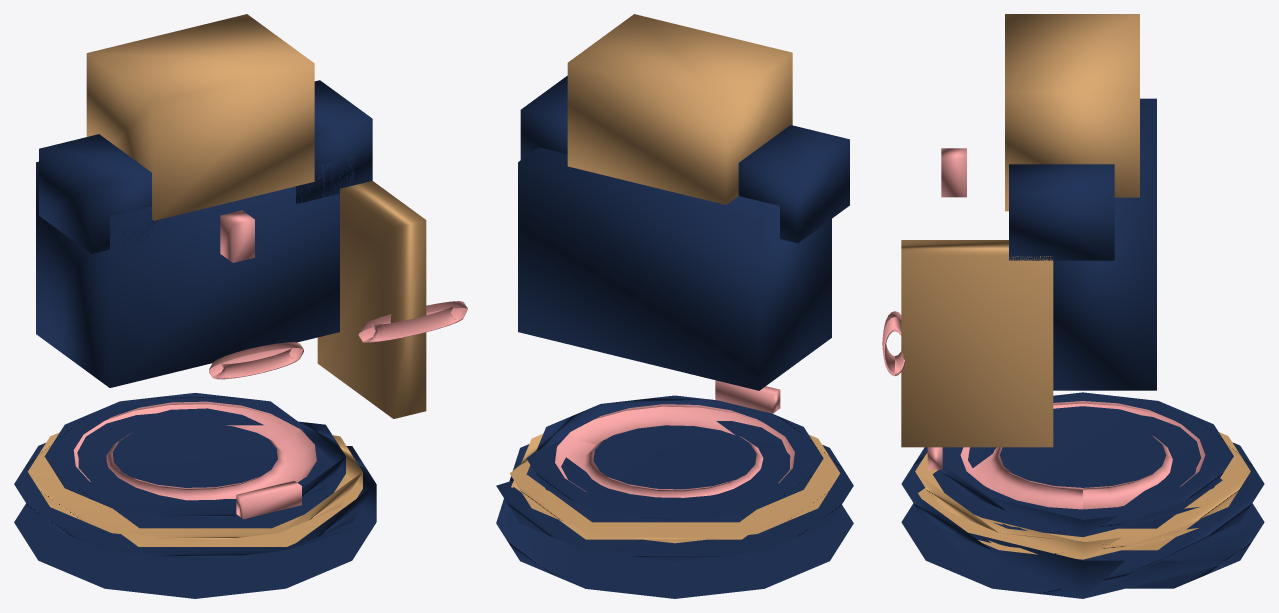
The model's file is guardian_h.glb.
The picture shows the model from 3 angles, left to right: view 1: azimuth 30°, elevation 25°; view 2: azimuth 150°, elevation 25°; view 3: azimuth 270°, elevation 25°; orthographic projection.
Parts seen in each view (by area): view 1: guardian_h_#172B52, guardian_h_#D6A36A, guardian_h_#FCA5A5; view 2: guardian_h_#172B52, guardian_h_#D6A36A, guardian_h_#FCA5A5; view 3: guardian_h_#172B52, guardian_h_#D6A36A, guardian_h_#FCA5A5.
Boxes of the visible parts, x1,y1,x2,y2 form: guardian_h_#172B52: (14,80,376,598); guardian_h_#D6A36A: (28,14,426,546); guardian_h_#FCA5A5: (73,210,467,519); guardian_h_#172B52: (496,75,853,598); guardian_h_#D6A36A: (510,14,840,543); guardian_h_#FCA5A5: (555,380,794,497); guardian_h_#172B52: (901,98,1264,598); guardian_h_#D6A36A: (901,14,1250,559); guardian_h_#FCA5A5: (882,148,1205,509).
Bounding box in the file's own units: 1.84 × 2.45 × 1.81.
